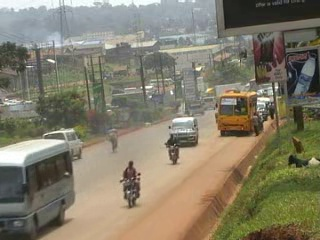Motorcycle: (119, 160, 144, 211), (162, 133, 182, 164)
